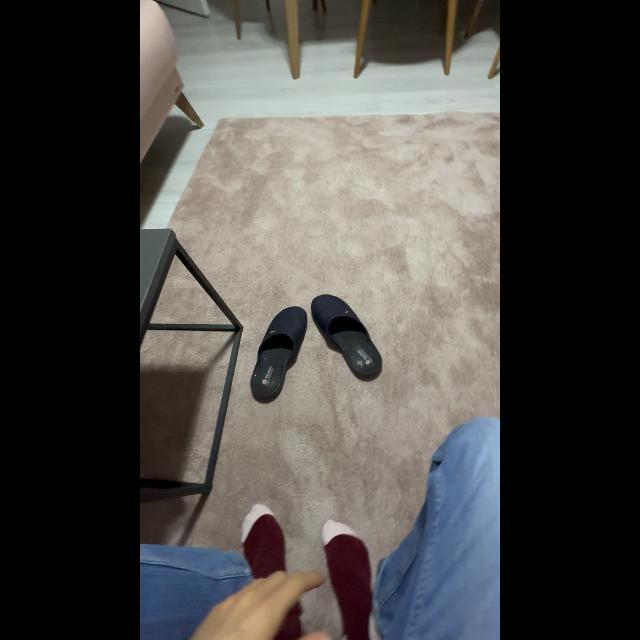slipper: (308, 288, 392, 388), (247, 302, 313, 412)
